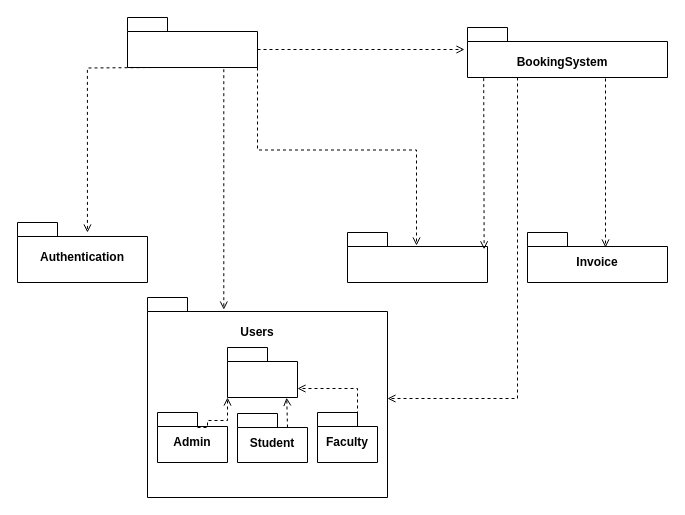
The diagram is 685 pixels wide and 515 high, and some of its shapes have lost their labels. The shapes that lost their labels are listed below. From the top down, each one's centre as x and y in pixels, then its label:
At (x=192, y=42): "CampusSystem".
At (x=417, y=257): "Facility".
At (x=262, y=372): "User".
